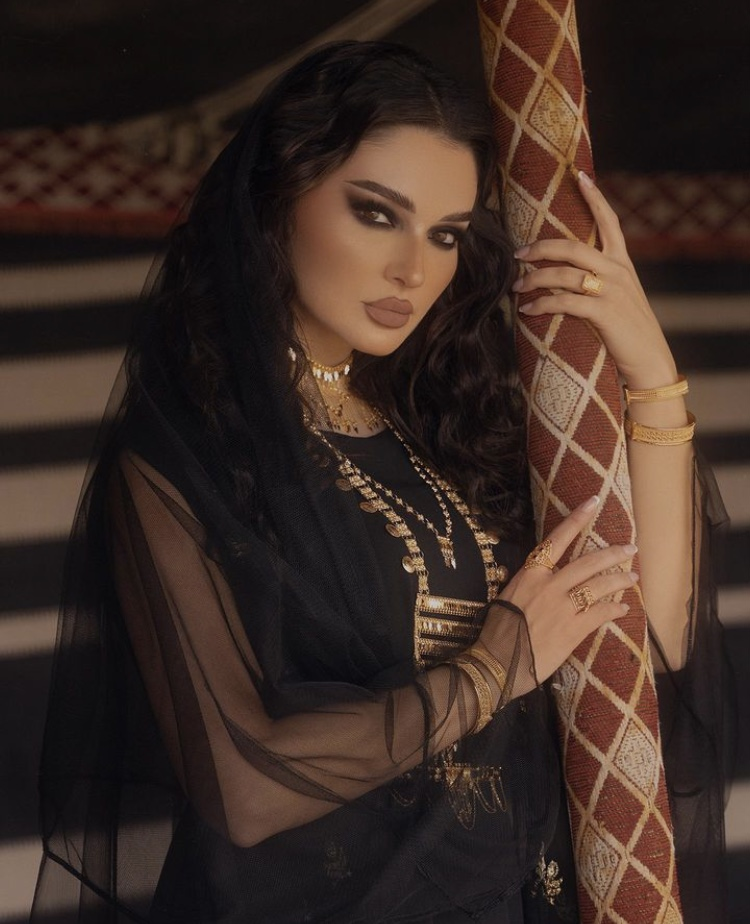Saudi_Founding_Day: (29, 37, 750, 923)
